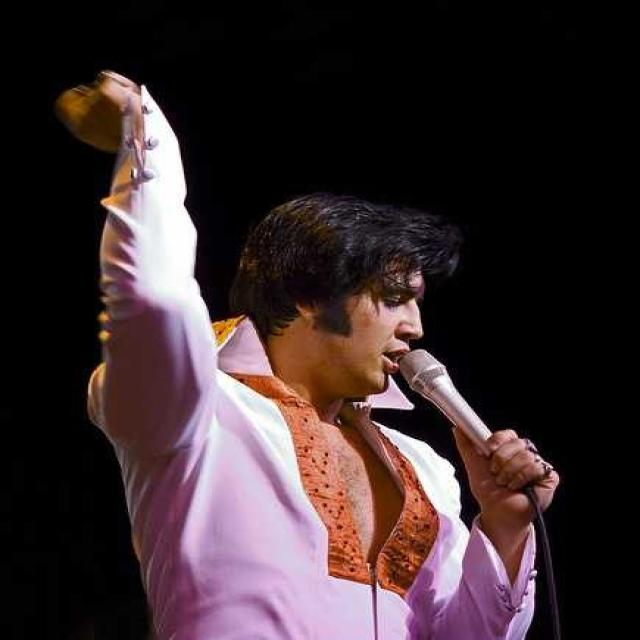microphone: (394, 347, 552, 497)
